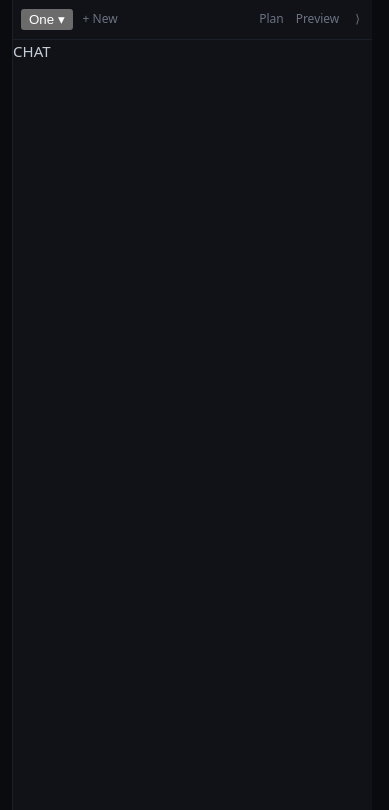
Scenario: AssistantDock › opens the Plan drawer (exclusive of Preview)
The image size is (389, 810).
Click the button "Plan". click: [271, 19]
box: left=255, top=6, right=288, bottom=33
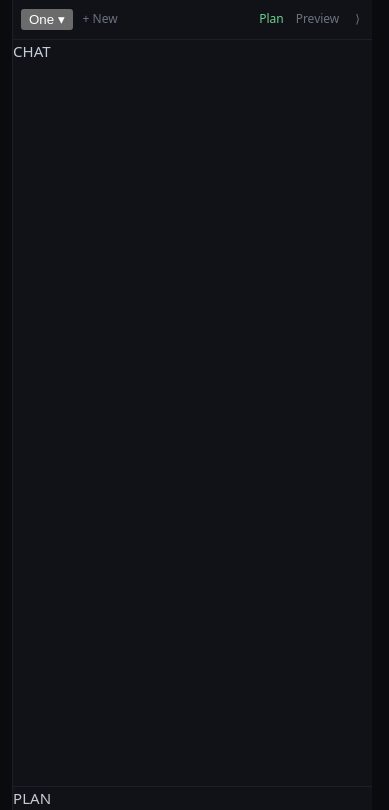
Result: the text "PLAN" is shown at left=13, top=788, right=51, bottom=808
Click the button "Preview". click: [317, 19]
box: left=292, top=6, right=343, bottom=33
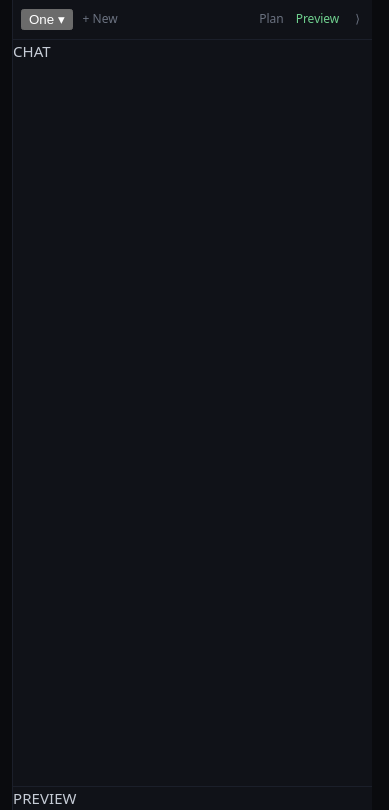
Result: the text "PREVIEW" is shown at left=13, top=788, right=77, bottom=808
